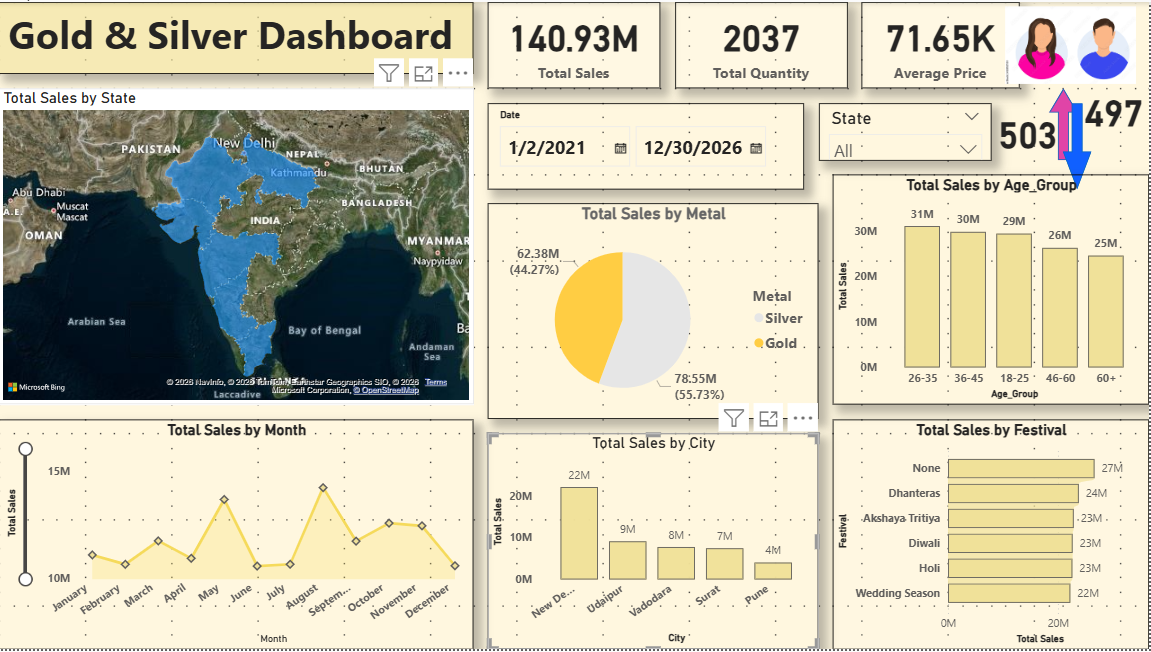

This screenshot's page, from the dashboard's own definition file:
{"tool":"powerbi","page":{"name":"Page 3","canvas":[1280,720],"ordinal":0},"visuals":[{"type":"pieChart","fields":{"Category":["indian_gold_silver_1000rows.Metal"],"Y":["indian_gold_silver_1000rows.Total Sales"]},"box":[544,224,368,240],"z":0},{"type":"lineChart","fields":{"Y":["indian_gold_silver_1000rows.Total Sales"],"Category":["indian_gold_silver_1000rows.Date.Variation.Date Hierarchy.Month"]},"box":[0,448,528,272],"z":1000},{"type":"textbox","box":[0,0,528,64],"z":2000},{"type":"card","fields":{"Values":["indian_gold_silver_1000rows.Average Price"]},"box":[928,0,176,96],"z":3000},{"type":"card","fields":{"Values":["indian_gold_silver_1000rows.Total Quantity"]},"box":[736,0,192,96],"z":4000},{"type":"card","fields":{"Values":["indian_gold_silver_1000rows.female_count"]},"box":[1088,80,96,64],"z":5000},{"type":"card","fields":{"Values":["indian_gold_silver_1000rows.MaleCount"]},"box":[1200,80,80,64],"z":6000},{"type":"card","fields":{"Values":["indian_gold_silver_1000rows.Total Sales"]},"box":[544,0,192,96],"z":7000},{"type":"image","box":[1104,0,176,96],"z":8000},{"type":"shape","box":[1168,96,32,80],"z":9000},{"type":"shape","box":[1184,128,32,80],"z":10000},{"type":"barChart","fields":{"Category":["indian_gold_silver_1000rows.Festival"],"Y":["indian_gold_silver_1000rows.Total Sales"]},"box":[928,464,352,256],"z":11000},{"type":"clusteredColumnChart","fields":{"Category":["indian_gold_silver_1000rows.Age_Group"],"Y":["indian_gold_silver_1000rows.Total Sales"]},"box":[928,192,352,256],"z":12000},{"type":"filledMap","fields":{"Category":["indian_gold_silver_1000rows.State"]},"box":[0,80,528,352],"z":13000},{"type":"slicer","fields":{"Values":["indian_gold_silver_1000rows.State"]},"box":[912,112,192,64],"z":14000},{"type":"columnChart","fields":{"Y":["indian_gold_silver_1000rows.Total Sales"],"Category":["indian_gold_silver_1000rows.City"]},"box":[544,480,368,240],"z":15000},{"type":"slicer","fields":{"Values":["indian_gold_silver_1000rows.Date"]},"box":[544,112,352,96],"z":16000}]}

Visuals, with their boxes in screenshot pixels (x1, y1, x2, y2), scaled from the page's 1280x720 canvas onto the 1151x652 screenshot:
pieChart - indian_gold_silver_1000rows.Metal x indian_gold_silver_1000rows.Total Sales: 489, 203, 820, 420
lineChart - indian_gold_silver_1000rows.Total Sales x indian_gold_silver_1000rows.Date.Variation.Date Hierarchy.Month: 0, 406, 475, 651
textbox: 0, 0, 475, 58
card - indian_gold_silver_1000rows.Average Price: 834, 0, 993, 87
card - indian_gold_silver_1000rows.Total Quantity: 662, 0, 834, 87
card - indian_gold_silver_1000rows.female_count: 978, 72, 1065, 130
card - indian_gold_silver_1000rows.MaleCount: 1079, 72, 1150, 130
card - indian_gold_silver_1000rows.Total Sales: 489, 0, 662, 87
image: 993, 0, 1150, 87
shape: 1050, 87, 1079, 159
shape: 1065, 116, 1093, 188
barChart - indian_gold_silver_1000rows.Festival x indian_gold_silver_1000rows.Total Sales: 834, 420, 1150, 651
clusteredColumnChart - indian_gold_silver_1000rows.Age_Group x indian_gold_silver_1000rows.Total Sales: 834, 174, 1150, 406
filledMap - indian_gold_silver_1000rows.State: 0, 72, 475, 391
slicer - indian_gold_silver_1000rows.State: 820, 101, 993, 159
columnChart - indian_gold_silver_1000rows.Total Sales x indian_gold_silver_1000rows.City: 489, 435, 820, 651
slicer - indian_gold_silver_1000rows.Date: 489, 101, 806, 188
